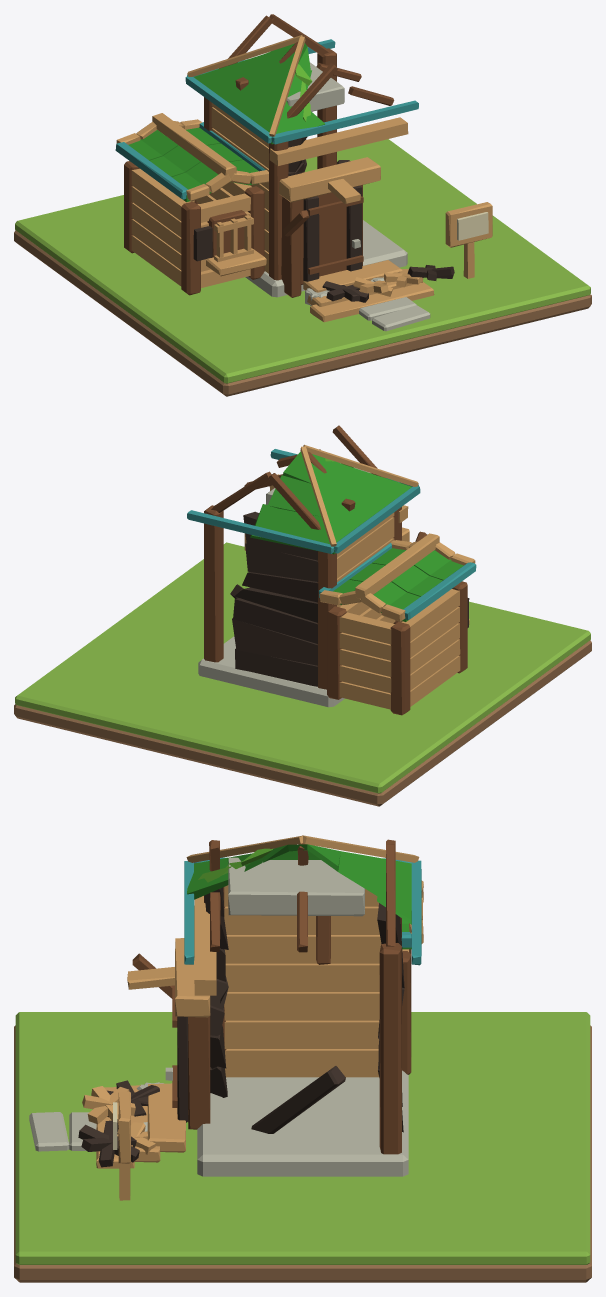
Rendered from town_hall_l03_damaged_LOD1.glb.
3 views of the same model, one above another, from view 1: azimuth 30°, elevation 25°; view 2: azimuth 150°, elevation 25°; view 3: azimuth 270°, elevation 25° (orthographic). The views are drawn at different scales.
Visible parts, largest first — view 1: town_hall_l03_damaged_foundation.001, town_hall_l03_damaged_grass_tile.001, town_hall_l03_damaged_earth_tile.001, town_hall_l03_damaged_path_stone.005, town_hall_l03_damaged_path_stone.004; view 2: town_hall_l03_damaged_foundation.001, town_hall_l03_damaged_grass_tile.001, town_hall_l03_damaged_earth_tile.001; view 3: town_hall_l03_damaged_grass_tile.001, town_hall_l03_damaged_foundation.001, town_hall_l03_damaged_earth_tile.001, town_hall_l03_damaged_path_stone.005, town_hall_l03_damaged_path_stone.004.
Part boxes in pixels (left/top/right/bottom): town_hall_l03_damaged_foundation.001: left=115, top=14, right=492, bottom=322; town_hall_l03_damaged_grass_tile.001: left=15, top=139, right=590, bottom=383; town_hall_l03_damaged_earth_tile.001: left=14, top=230, right=591, bottom=396; town_hall_l03_damaged_path_stone.005: left=372, top=305, right=430, bottom=331; town_hall_l03_damaged_path_stone.004: left=359, top=297, right=416, bottom=320; town_hall_l03_damaged_foundation.001: left=187, top=425, right=476, bottom=715; town_hall_l03_damaged_grass_tile.001: left=15, top=542, right=590, bottom=793; town_hall_l03_damaged_earth_tile.001: left=14, top=640, right=591, bottom=806; town_hall_l03_damaged_grass_tile.001: left=15, top=1012, right=590, bottom=1264; town_hall_l03_damaged_foundation.001: left=78, top=835, right=423, bottom=1200; town_hall_l03_damaged_earth_tile.001: left=14, top=1025, right=591, bottom=1282; town_hall_l03_damaged_path_stone.005: left=29, top=1112, right=69, bottom=1151; town_hall_l03_damaged_path_stone.004: left=69, top=1112, right=96, bottom=1150.
Size of the model in its own units: 3.6 by 2.24 by 3.6.
